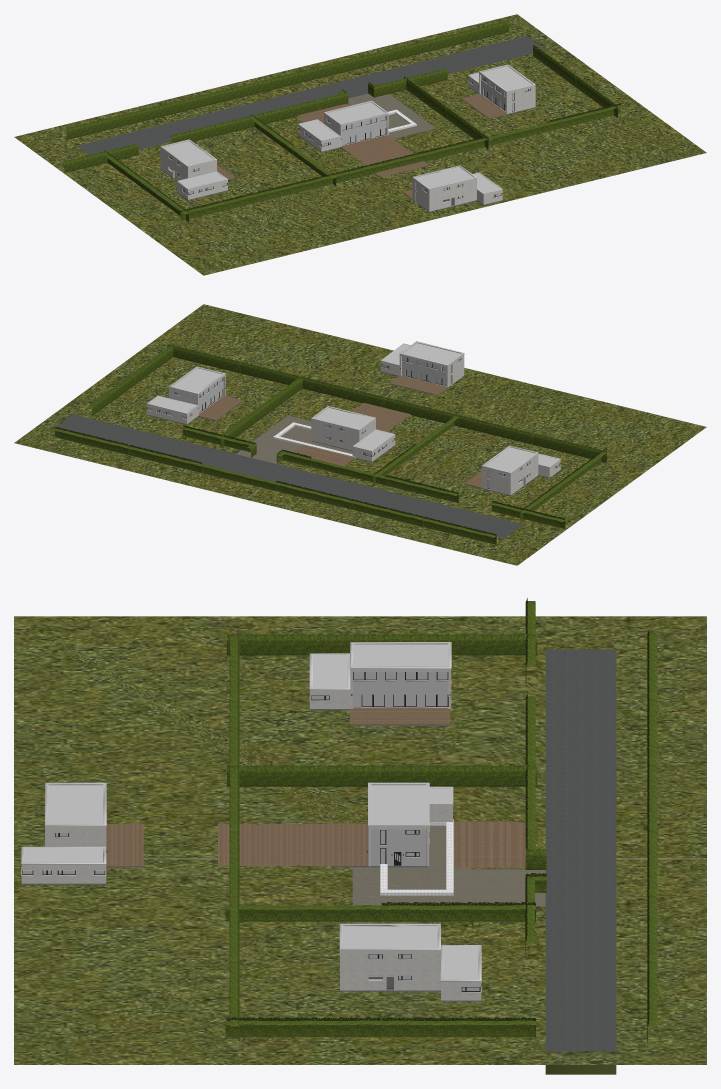
Rendered from filter-2-cartain.FBX.
3 views of the same model, one above another, from view 1: azimuth 30°, elevation 25°; view 2: azimuth 150°, elevation 25°; view 3: azimuth 270°, elevation 25° (orthographic). The views are drawn at different scales.
Visible parts, largest first — view 1: floor-grass, fence, concrete, house-wall-side, house-celling-remove, wood-panel, house-window-self, house-wall-front, house-window-glass, house-window-frame; view 2: floor-grass, fence, concrete, house-wall-side, house-celling-remove, wood-panel, house-window-self, house-window-glass, house-wall-front, pergola-floor, house-window-frame, floor-concrete; view 3: floor-grass, concrete, fence, house-celling-remove, house-wall-side, wood-panel, house-window-self, house-wall-front, pergola-floor, house-window-glass, house-window-frame, floor-concrete.
Part boxes in pixels (x1=…): floor-grass: x1=14, y1=14, x2=706, y2=275; fence: x1=62, y1=21, x2=622, y2=221; concrete: x1=77, y1=36, x2=545, y2=155; house-wall-side: x1=160, y1=65, x2=535, y2=211; house-celling-remove: x1=164, y1=66, x2=532, y2=192; wood-panel: x1=217, y1=94, x2=505, y2=198; house-window-self: x1=160, y1=64, x2=535, y2=202; house-wall-front: x1=342, y1=80, x2=505, y2=145; house-window-glass: x1=169, y1=76, x2=530, y2=200; house-window-frame: x1=168, y1=76, x2=530, y2=201; floor-grass: x1=14, y1=304, x2=706, y2=565; fence: x1=52, y1=344, x2=608, y2=544; concrete: x1=56, y1=414, x2=523, y2=538; house-wall-side: x1=146, y1=342, x2=560, y2=495; house-celling-remove: x1=149, y1=343, x2=557, y2=471; wood-panel: x1=198, y1=376, x2=481, y2=487; house-window-self: x1=146, y1=341, x2=560, y2=489; house-window-glass: x1=147, y1=356, x2=559, y2=488; house-wall-front: x1=199, y1=359, x2=446, y2=413; pergola-floor: x1=285, y1=445, x2=354, y2=471; house-window-frame: x1=147, y1=356, x2=559, y2=489; floor-concrete: x1=147, y1=371, x2=560, y2=495; floor-grass: x1=14, y1=616, x2=706, y2=1074; concrete: x1=350, y1=649, x2=616, y2=1051; fence: x1=225, y1=598, x2=657, y2=1042; house-celling-remove: x1=24, y1=644, x2=478, y2=979; house-wall-side: x1=21, y1=644, x2=481, y2=1000; wood-panel: x1=106, y1=707, x2=450, y2=866; house-window-self: x1=21, y1=642, x2=481, y2=992; house-wall-front: x1=353, y1=672, x2=448, y2=865; pergola-floor: x1=453, y1=821, x2=525, y2=867; house-window-glass: x1=23, y1=672, x2=479, y2=990; house-window-frame: x1=22, y1=672, x2=480, y2=991; floor-concrete: x1=22, y1=709, x2=480, y2=1001.
Bounding box in the file's own units: 5795 × 458 × 3782.
16 materials, 12 textured.
